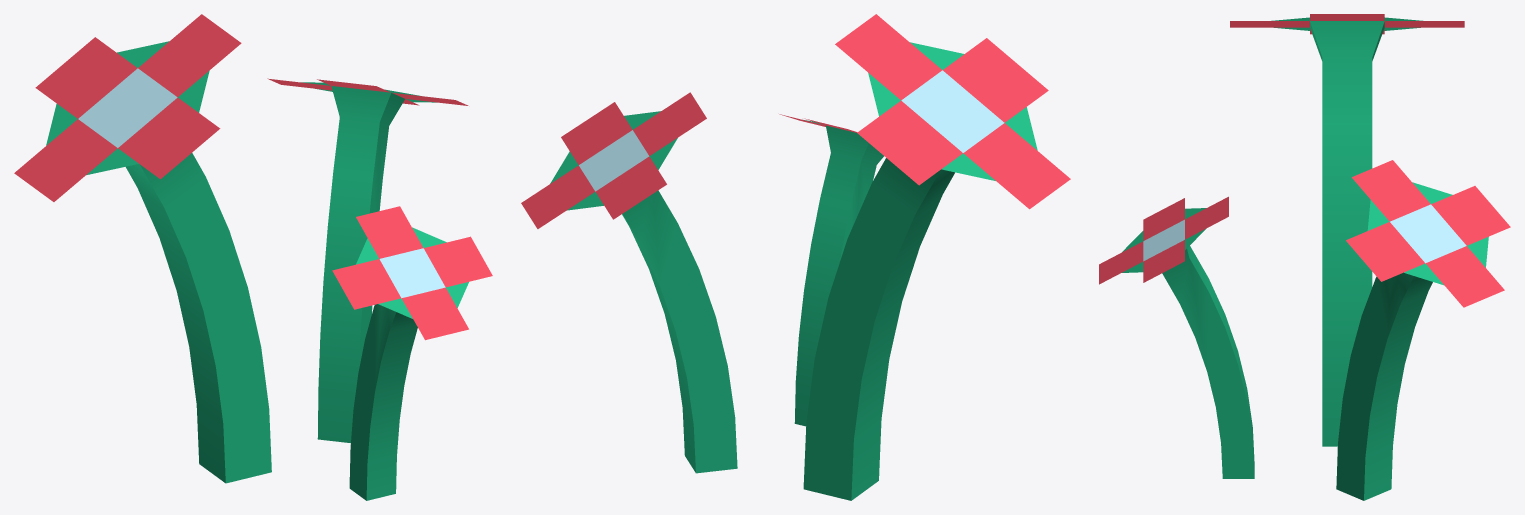
Rendered from flowers.obj.
3 views of the same model, side by side, from view 1: azimuth 30°, elevation 25°; view 2: azimuth 150°, elevation 25°; view 3: azimuth 270°, elevation 25° (orthographic). The views are drawn at different scales.
Parts seen in each view (by area): view 1: flowers; view 2: flowers; view 3: flowers.
Part boxes in pixels (box(x1,y1,x2,y2)): flowers: box(14, 14, 492, 500); flowers: box(521, 14, 1070, 500); flowers: box(1099, 14, 1510, 500).
Bounding box in the file's own units: 0.4975 × 0.464 × 0.4168.
